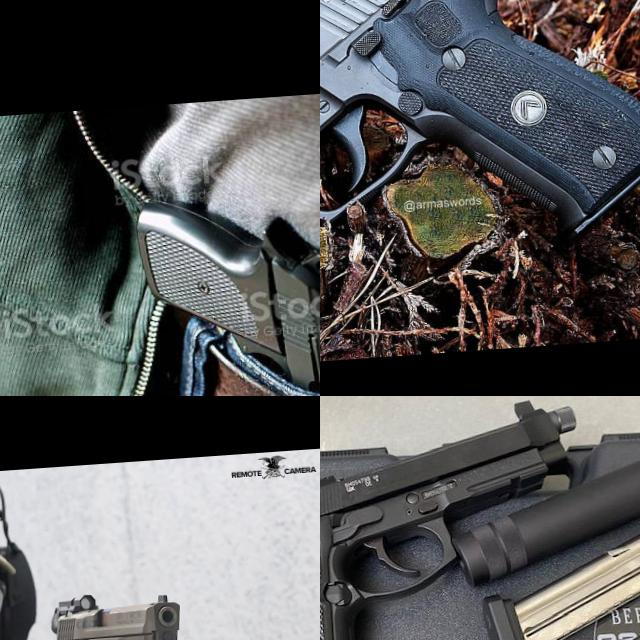handgun: (320, 0, 640, 299), (320, 396, 605, 640), (128, 178, 320, 396), (46, 585, 191, 640)
